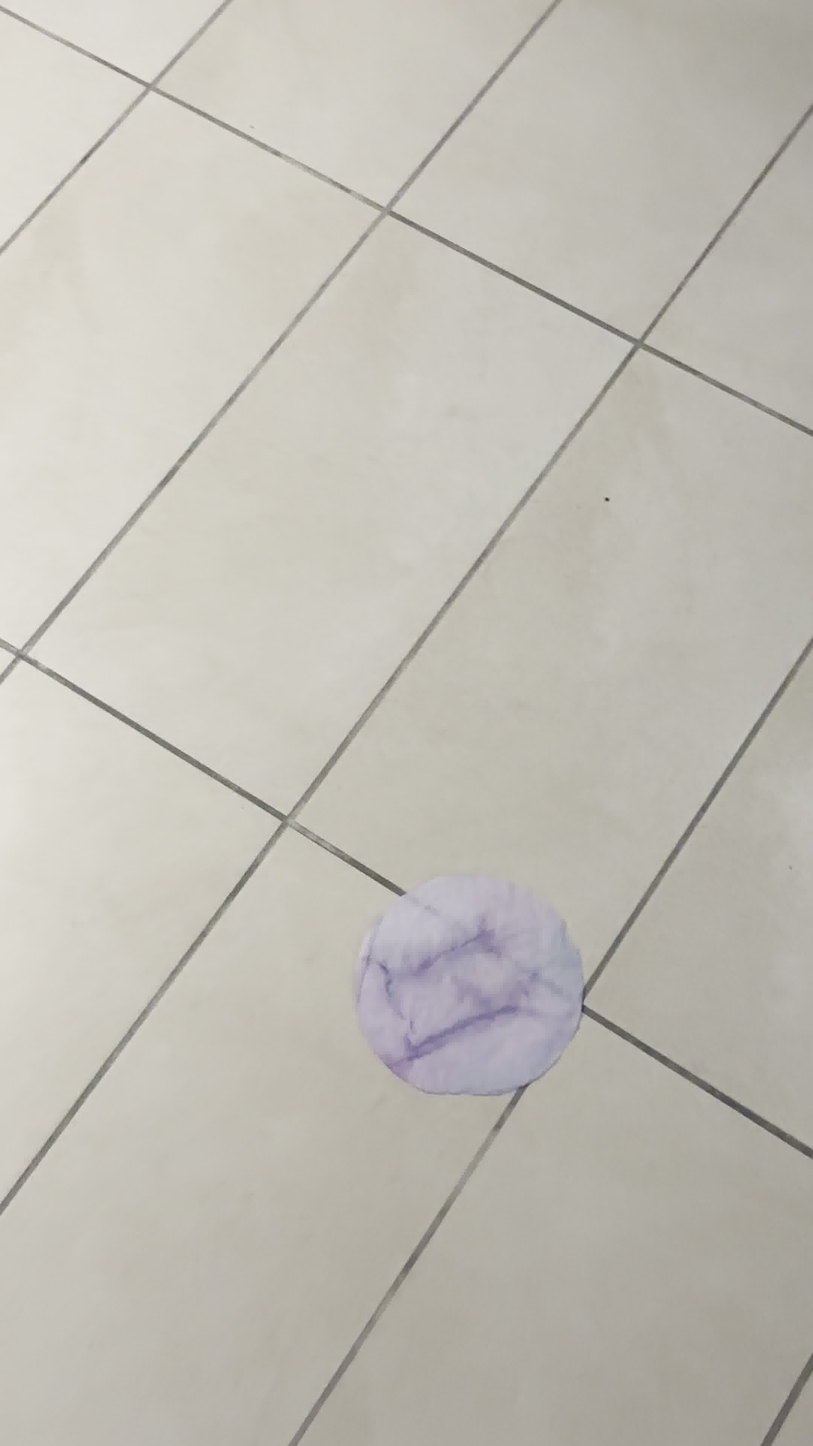Target: (357, 879, 580, 1094)
